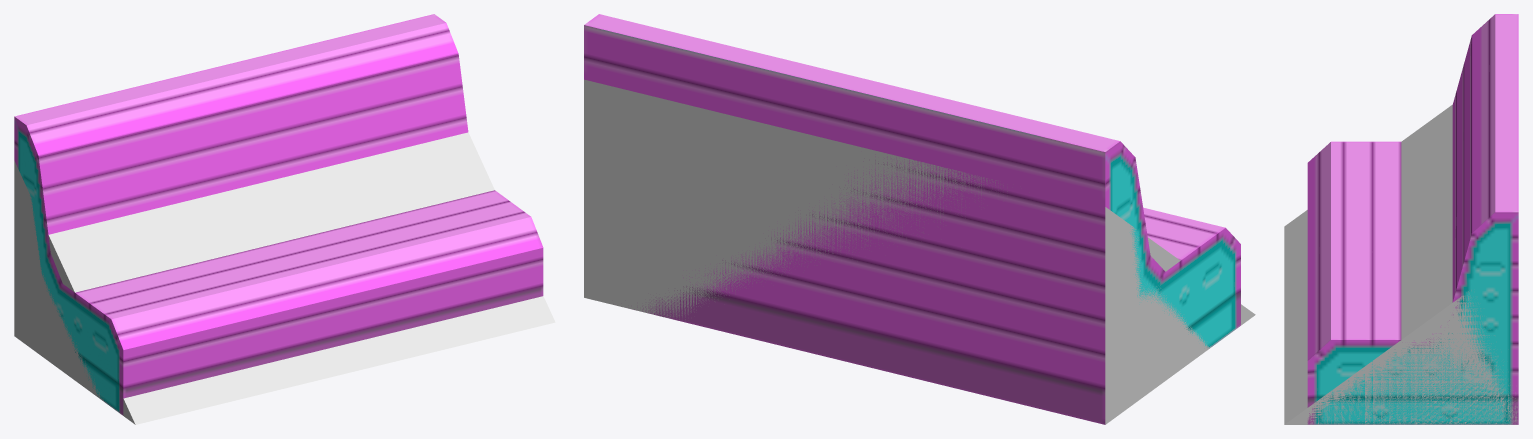
File: bench.dae
3 renders of one model, left to right at view 1: azimuth 30°, elevation 25°; view 2: azimuth 150°, elevation 25°; view 3: azimuth 270°, elevation 25°, orthographic. The views are drawn at different scales.
Visible parts, largest first — view 1: Cube, col-col; view 2: Cube, col-col; view 3: Cube, col-col.
Boxes of the visible parts, x1,y1,x2,y2 form: Cube: (14, 14, 543, 415); col-col: (14, 132, 555, 424); Cube: (584, 14, 1240, 424); col-col: (584, 79, 1255, 424); Cube: (1307, 14, 1518, 424); col-col: (1284, 105, 1517, 424).
Size of the model in its own units: 2 by 1 by 1.
1 material, 1 textured.
